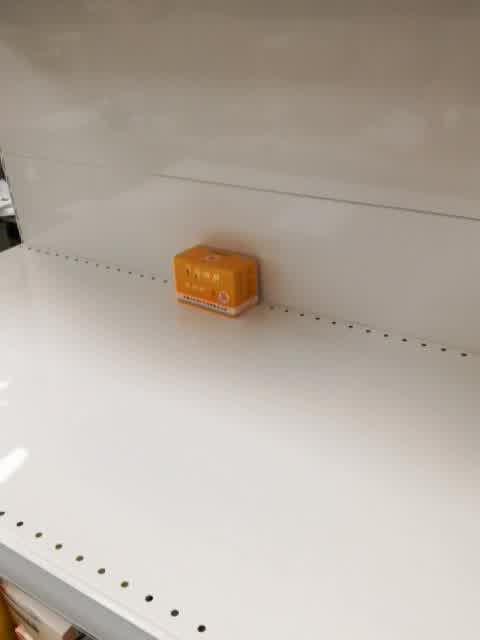jasminetea: (172, 243, 260, 319)
